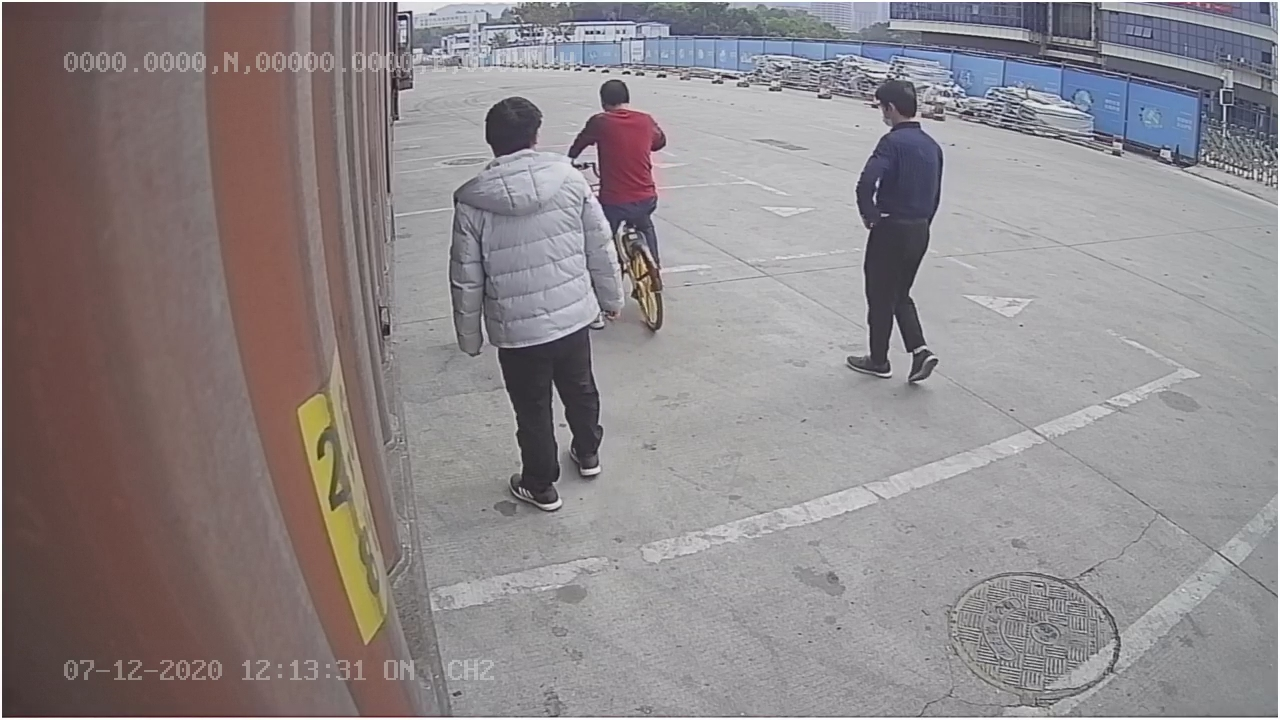person: (843, 76, 950, 389)
